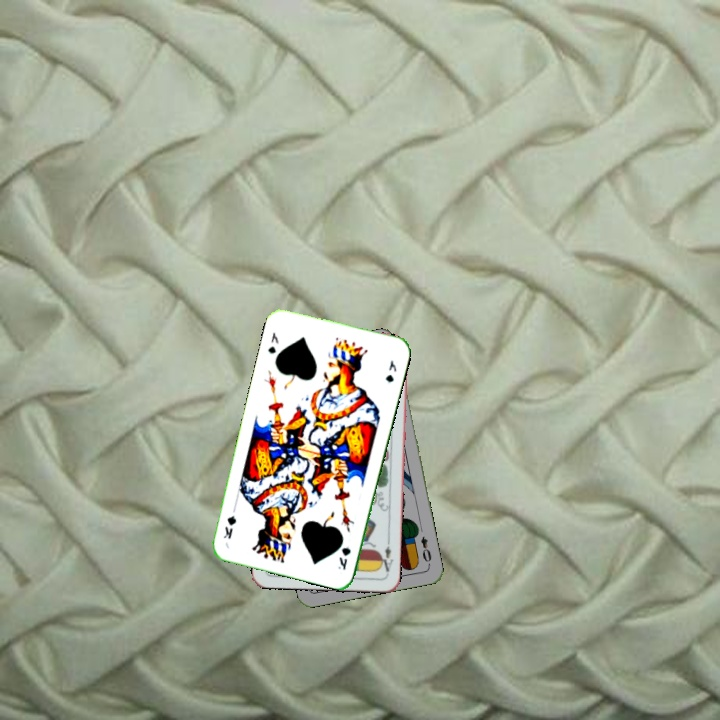EA: (376, 536, 395, 574)
EO: (417, 532, 434, 568)
GK: (334, 543, 353, 572), (264, 328, 281, 356)
